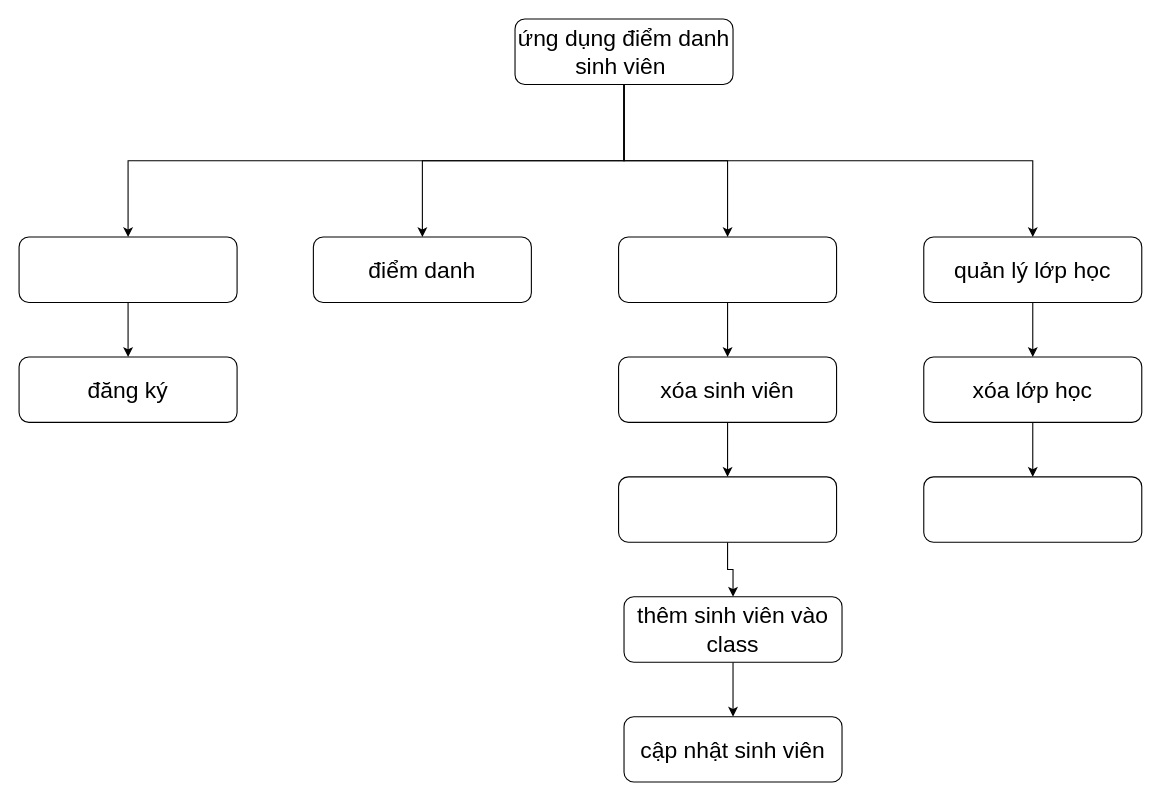
The diagram is 1161 pixels wide and 801 high, and some of its shapes have lost their labels. The centre of each missing label's shape, as x and y in pixels:
"quản lý sinh viên" belongs at (727,269).
"thêm lớp học" belongs at (1032,509).
"thêm sinh viên" belongs at (727,509).
"đăng nhập" belongs at (127,269).
